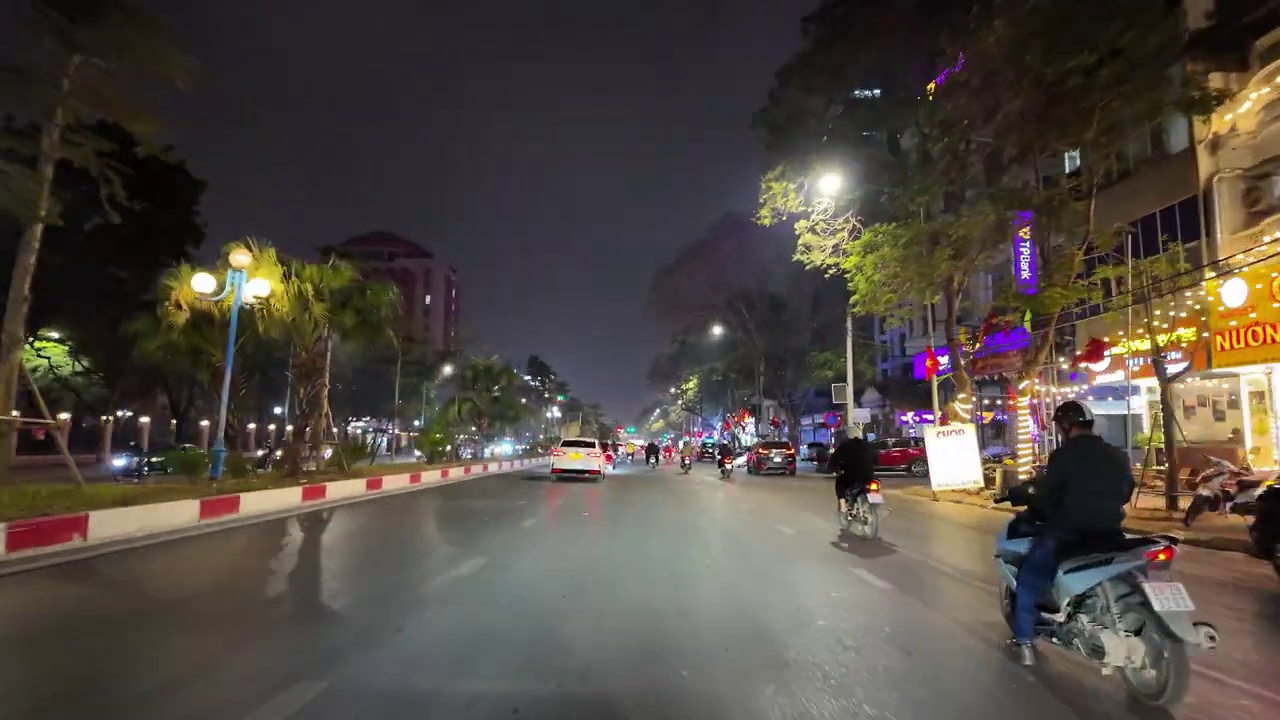acesa: (813, 168, 845, 201), (700, 320, 730, 348), (706, 321, 728, 343)
